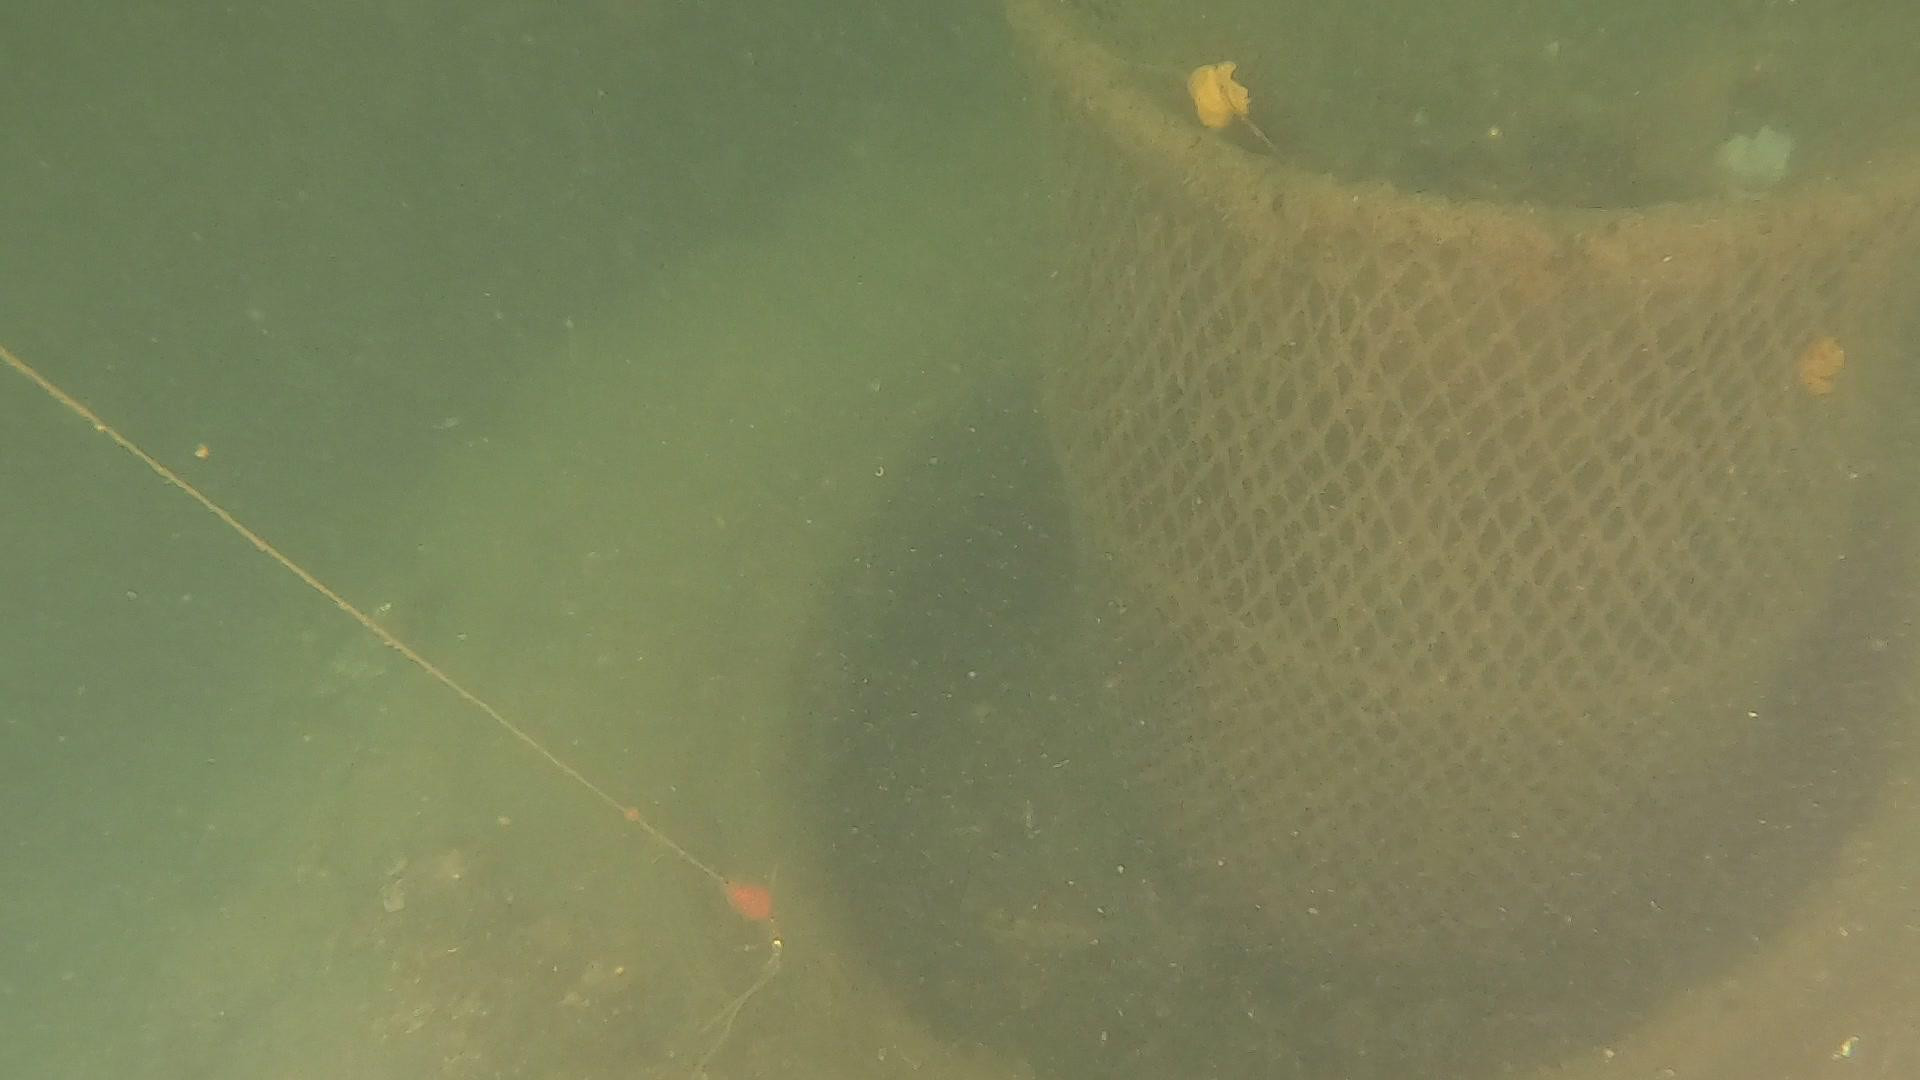rope: (0, 345, 736, 891)
spring fish trap: (1005, 0, 1920, 963)
tire: (285, 156, 1920, 1080)
